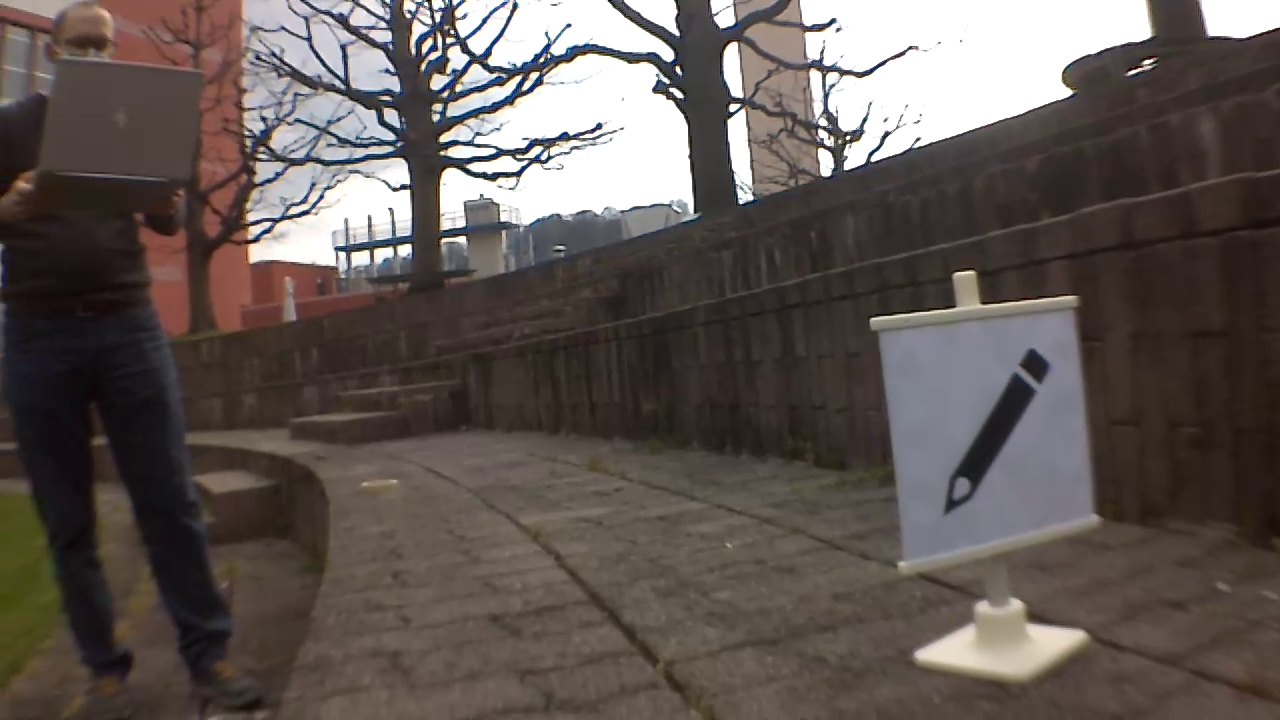pencil: (943, 345, 1053, 514)
